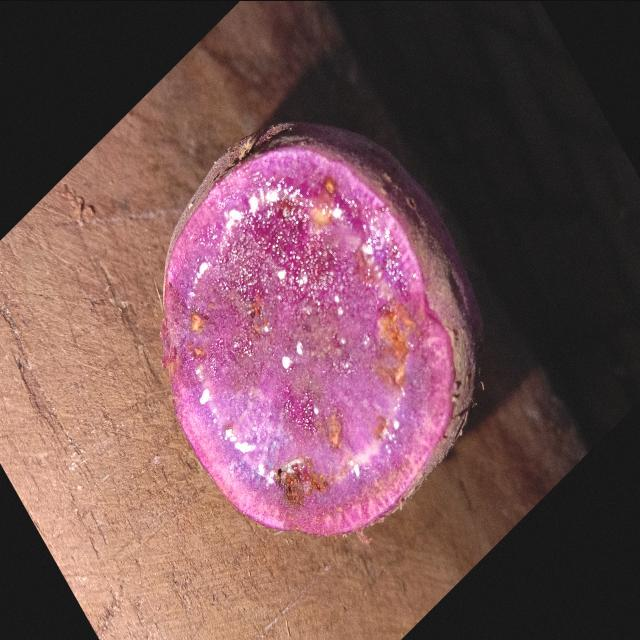Sick Sweet Potato_Tuber Rot: (162, 147, 454, 535)
